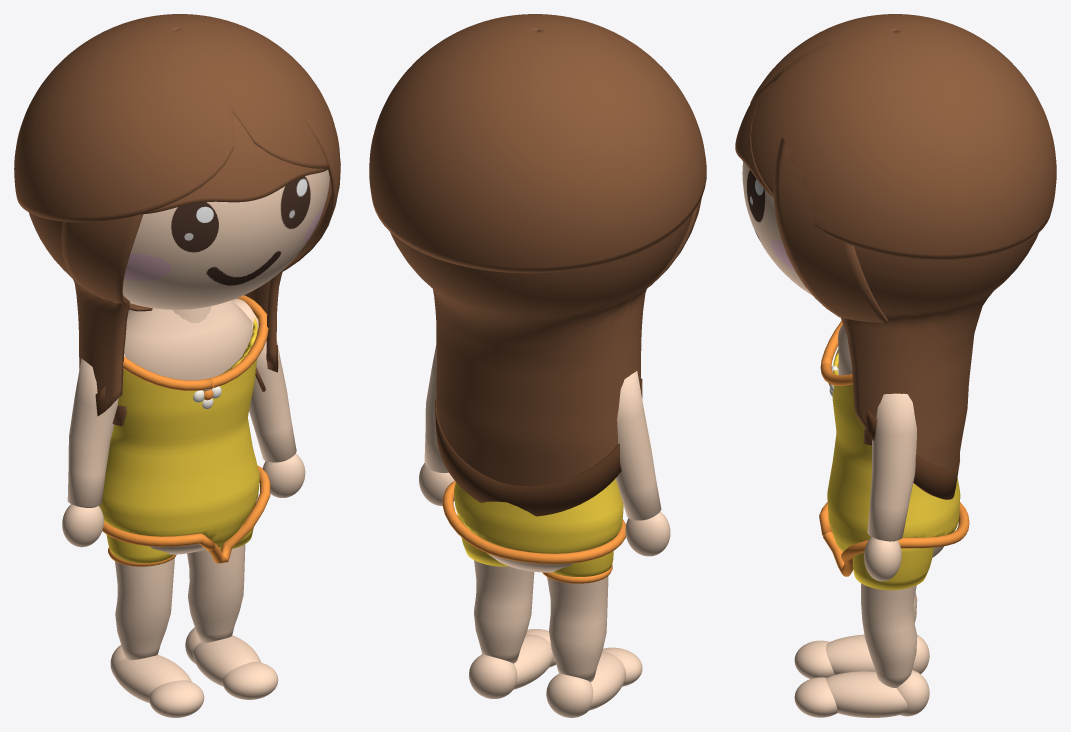
The model's file is lily3.glb.
The picture shows the model from 3 angles, left to right: view 1: azimuth 30°, elevation 25°; view 2: azimuth 150°, elevation 25°; view 3: azimuth 270°, elevation 25°; orthographic projection. The views are drawn at different scales.
Parts seen in each view (by area): view 1: HairCap, Suit, Head, Torso, HairBack, HairLockR, LegR, ArmR, Bangs, LegL, ArmL, TrimHem (+9 smaller); view 2: HairCap, HairBack, Suit, HairBackShade, LegR, LegL, ArmR, TrimHem, FootHeelL, FootHeelR, HandR, FootL (+6 smaller); view 3: HairCap, HairBack, HairLockL, Suit, ArmL, LegL, FootL, Head, TrimHem, SuitTabL, HairBackShade, FootR (+7 smaller).
Boxes of the visible parts, left/top/right/bottom form: HairCap: left=14, top=14, right=339, bottom=222; Suit: left=99, top=318, right=259, bottom=548; Head: left=122, top=169, right=329, bottom=309; Torso: left=124, top=300, right=251, bottom=554; HairBack: left=29, top=179, right=331, bottom=414; HairLockR: left=61, top=214, right=152, bottom=426; LegR: left=115, top=557, right=174, bottom=660; ArmR: left=67, top=358, right=118, bottom=507; Bangs: left=141, top=113, right=328, bottom=214; LegL: left=187, top=544, right=245, bottom=643; ArmL: left=249, top=340, right=296, bottom=462; TrimHem: left=102, top=466, right=270, bottom=563; HairCap: left=369, top=14, right=706, bottom=273; HairBack: left=390, top=216, right=690, bottom=485; Suit: left=454, top=478, right=623, bottom=553; HairBackShade: left=435, top=378, right=642, bottom=516; LegR: left=547, top=576, right=608, bottom=682; LegL: left=474, top=560, right=534, bottom=663; ArmR: left=615, top=371, right=661, bottom=520; TrimHem: left=442, top=481, right=625, bottom=564; FootHeelL: left=469, top=654, right=517, bottom=698; FootHeelR: left=546, top=673, right=593, bottom=717; HandR: left=625, top=511, right=670, bottom=556; FootL: left=481, top=634, right=553, bottom=689; HairCap: left=750, top=14, right=1056, bottom=260; HairBack: left=841, top=233, right=1038, bottom=496; HairLockL: left=773, top=137, right=887, bottom=445; Suit: left=827, top=349, right=960, bottom=551; ArmL: left=867, top=393, right=916, bottom=541; LegL: left=861, top=583, right=917, bottom=687; FootL: left=826, top=671, right=907, bottom=717; Head: left=742, top=161, right=812, bottom=295; TrimHem: left=819, top=502, right=969, bottom=576; SuitTabL: left=852, top=547, right=933, bottom=590; HairBackShade: left=866, top=407, right=959, bottom=499; FootR: left=826, top=634, right=875, bottom=674.
Size of the model in its own units: 0.466 by 1.01 by 0.4439.
Materials: 7 (1 with a texture image).
